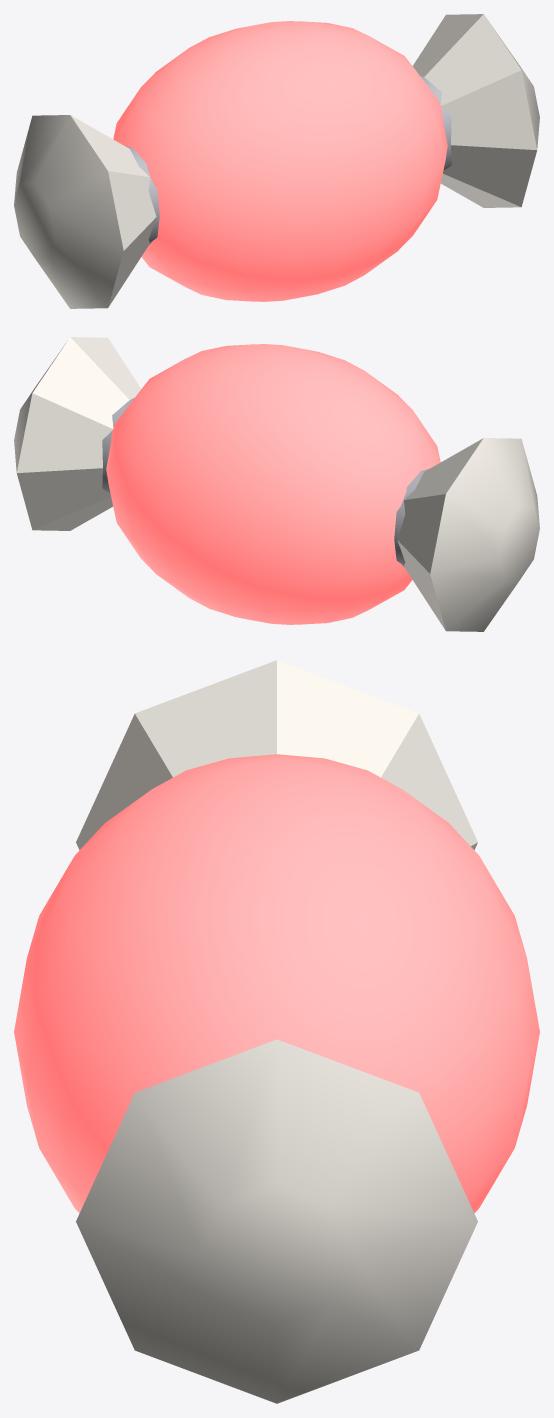
The model's file is ITEM_CandyCell_Red.fbx.
The picture shows the model from 3 angles, top to bottom: view 1: azimuth 30°, elevation 25°; view 2: azimuth 150°, elevation 25°; view 3: azimuth 270°, elevation 25°; orthographic projection. The views are drawn at different scales.
Parts seen in each view (by area): view 1: ITEM_CandyCell_Red; view 2: ITEM_CandyCell_Red; view 3: ITEM_CandyCell_Red.
Boxes of the visible parts, x1,y1,x2,y2 form: ITEM_CandyCell_Red: (14,14,539,308); ITEM_CandyCell_Red: (14,337,539,631); ITEM_CandyCell_Red: (14,660,539,1403).
Size of the model in its own units: 0.68 by 0.34 by 0.34.
